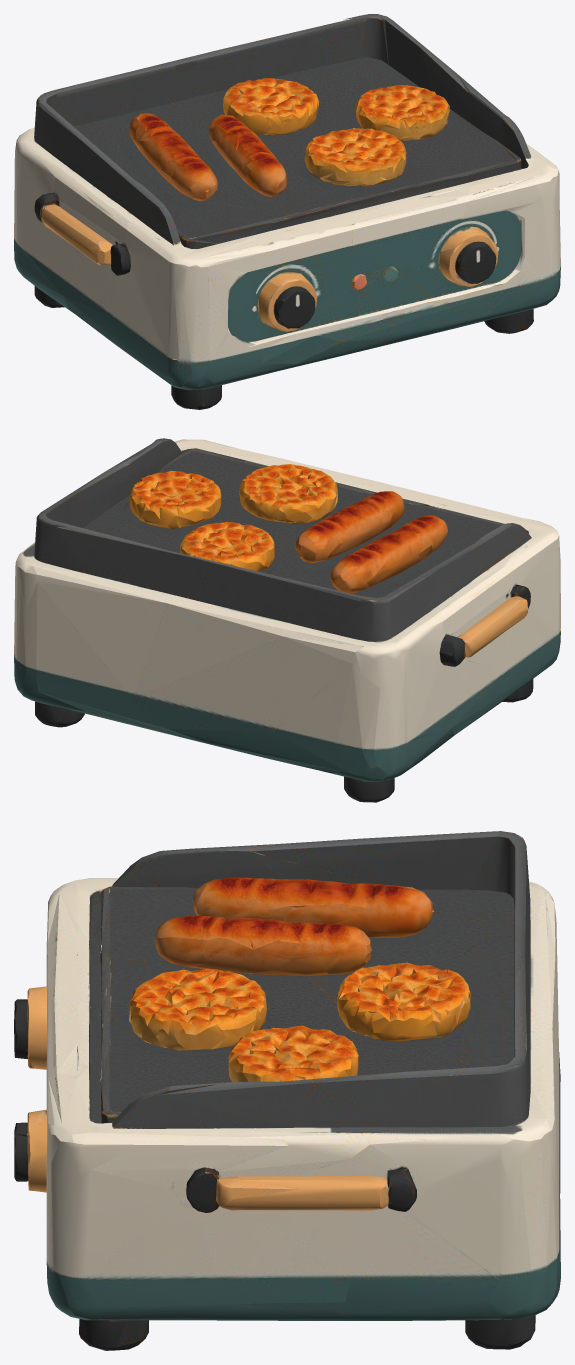
File: rounded-restaurant-flat-griddle-cooked-food.glb
3 renders of one model, top to bottom at view 1: azimuth 30°, elevation 25°; view 2: azimuth 150°, elevation 25°; view 3: azimuth 270°, elevation 25°, orthographic. The views are drawn at different scales.
Parts seen in each view (by area): view 1: Mesh_0; view 2: Mesh_0; view 3: Mesh_0.
Boxes of the visible parts, x1,y1,x2,y2 form: Mesh_0: (14,14,560,409); Mesh_0: (14,438,560,802); Mesh_0: (14,831,560,1350).
Bounding box in the file's own units: 0.6674 × 0.3 × 0.5229.
Materials: 1 (1 with a texture image).
